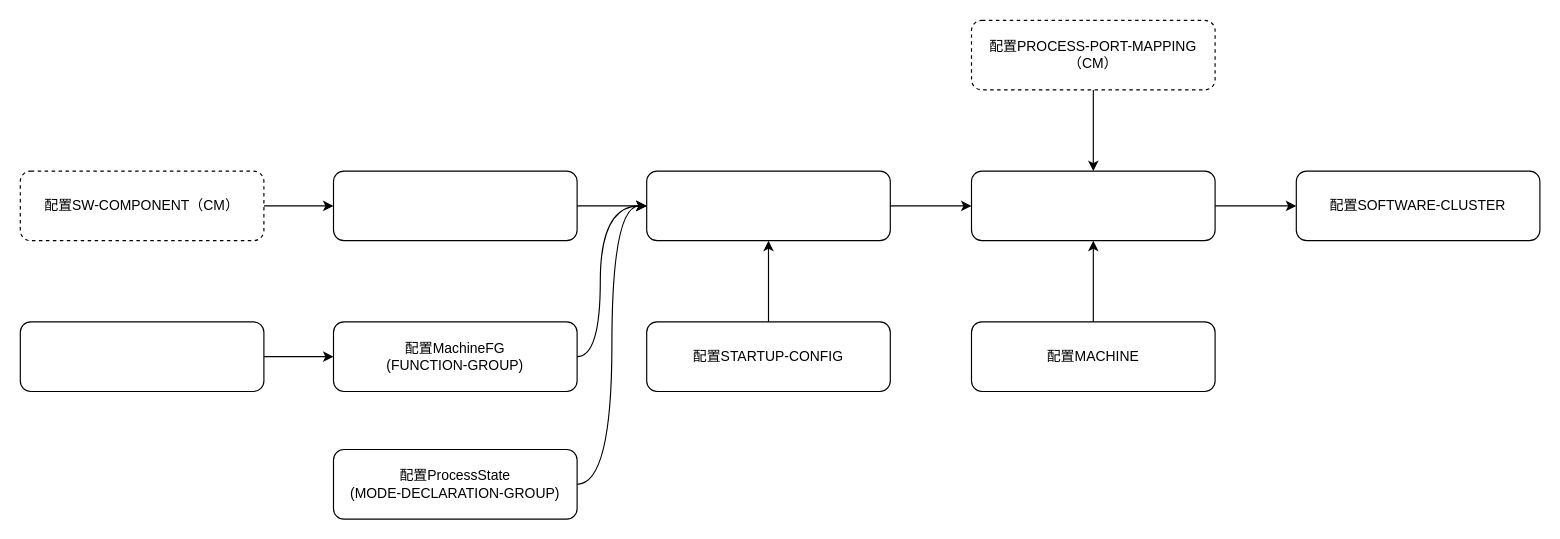
Some shapes in this 1560 by 539 pixel diagram are drawn without their labels. Here are the shapes that lost their labels. From the top down, the centre of each, then its label:
the point at 454,205: 配置EXECUTABLE
the point at 768,205: 配置PROCESS
the point at 1092,205: 配置EXECUTION-MAPPING
the point at 141,356: 配置MachineState (MODE-DECLARATION-GROUP)
